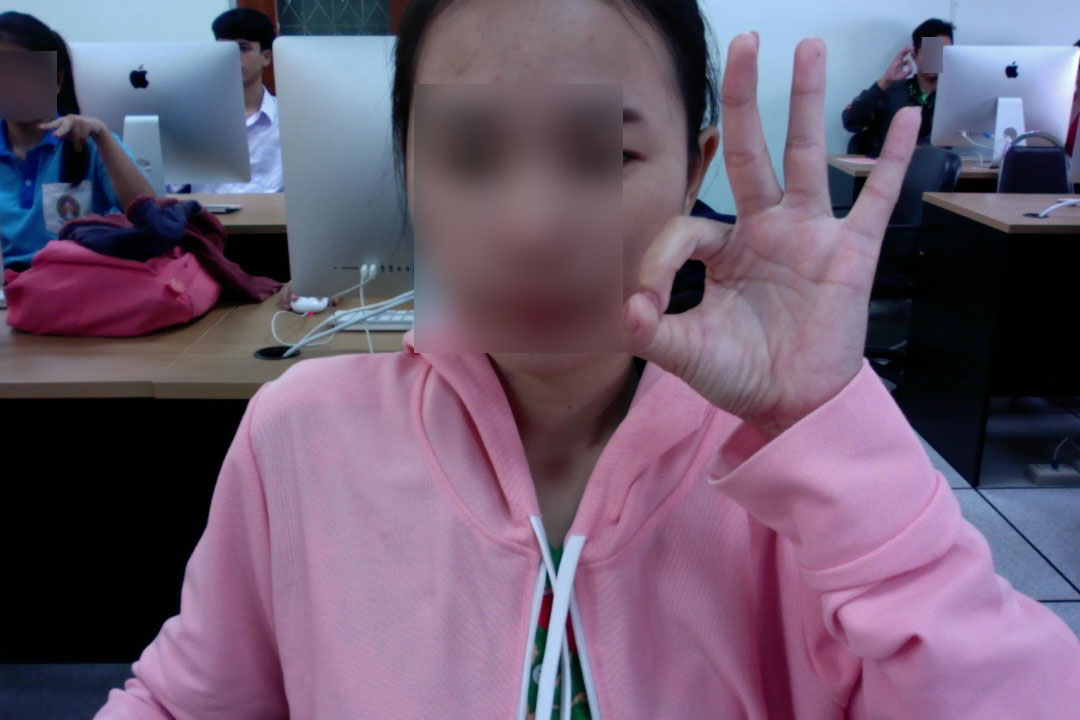for: (602, 25, 934, 442)
